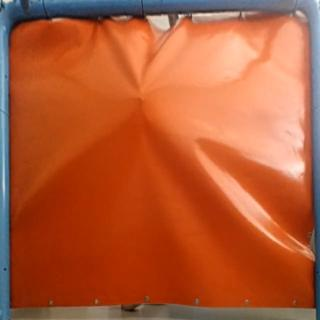Hit-hRxx: (132, 93, 147, 106)
